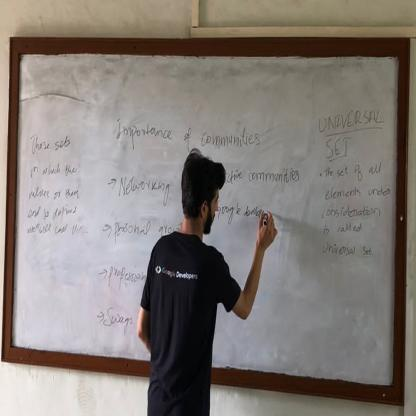Handwritten text: (114, 107, 263, 155), (223, 160, 303, 196), (111, 213, 183, 247), (118, 167, 173, 209), (316, 102, 386, 133), (215, 190, 265, 230), (320, 235, 375, 271), (320, 182, 392, 205), (26, 220, 91, 244), (322, 161, 387, 183), (26, 126, 75, 154), (27, 180, 84, 203), (104, 300, 135, 342), (27, 156, 79, 181), (319, 203, 386, 222), (25, 200, 79, 223), (108, 261, 148, 292), (317, 217, 368, 239), (320, 129, 355, 159)
Whiteboard: (8, 40, 404, 389)
